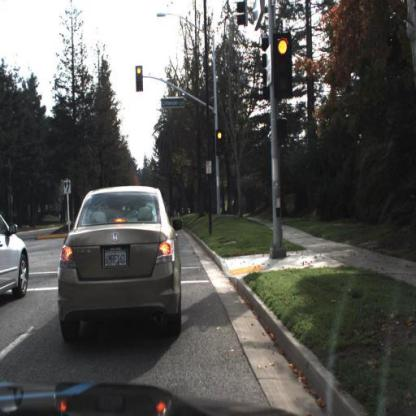car: (53, 184, 185, 345), (1, 199, 33, 305)
trafficLight-Red: (271, 31, 296, 107), (216, 129, 226, 159), (135, 65, 145, 93)
